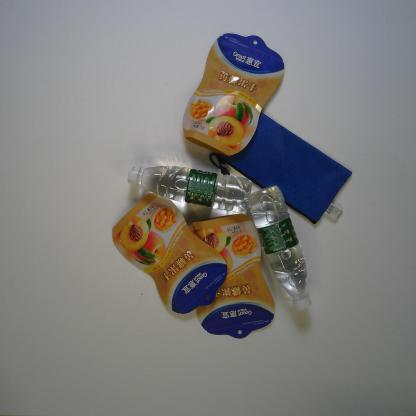Dried Fruit: (111, 191, 228, 316), (182, 32, 285, 158), (188, 211, 276, 339)
Drink: (246, 184, 313, 312), (126, 166, 252, 214)
Stationery: (209, 112, 353, 226)
